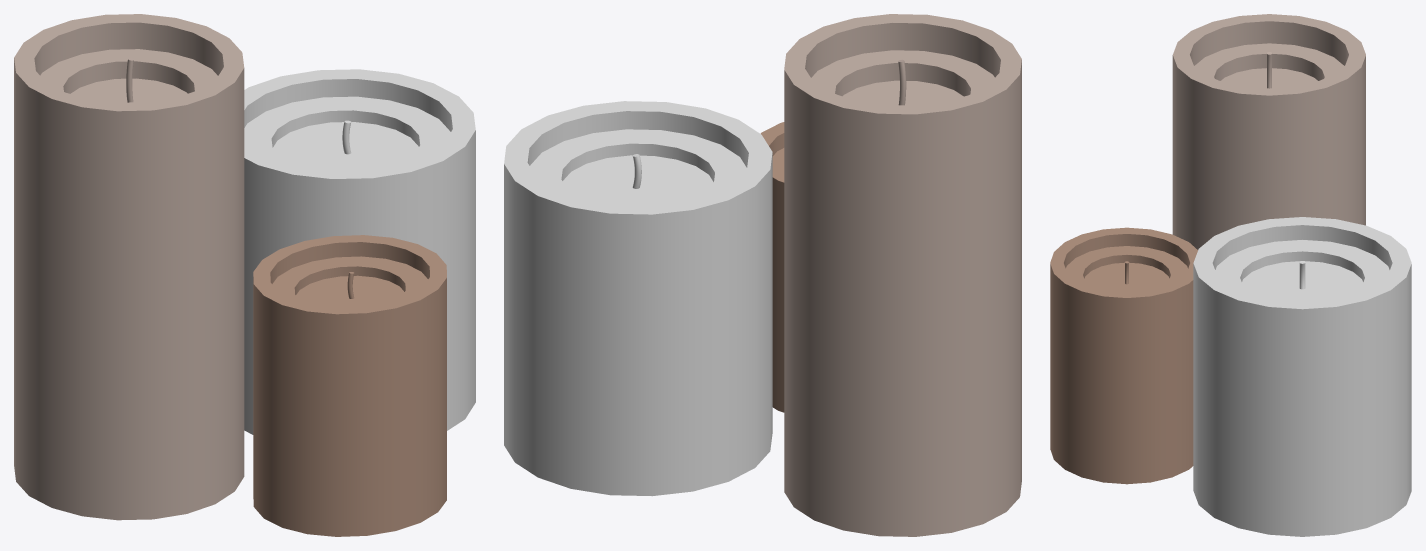
File: colored candles bedroom.fbx
The picture shows the model from 3 angles, left to right: view 1: azimuth 30°, elevation 25°; view 2: azimuth 150°, elevation 25°; view 3: azimuth 270°, elevation 25°; orthographic projection. The views are drawn at different scales.
Visible parts, largest first — view 1: pCylinder3, pCylinder4, pCylinder5; view 2: pCylinder3, pCylinder5, pCylinder4; view 3: pCylinder5, pCylinder3, pCylinder4.
Boxes of the visible parts, <box> form: pCylinder3: <box>14,14,244,520</box>; pCylinder4: <box>253,235,446,536</box>; pCylinder5: <box>244,69,475,434</box>; pCylinder3: <box>784,14,1021,536</box>; pCylinder5: <box>504,101,772,496</box>; pCylinder4: <box>760,122,784,412</box>; pCylinder5: <box>1193,217,1411,536</box>; pCylinder3: <box>1172,14,1365,249</box>; pCylinder4: <box>1050,227,1197,484</box>.
Bounding box in the file's own units: 0.151 × 0.1322 × 0.1258.
